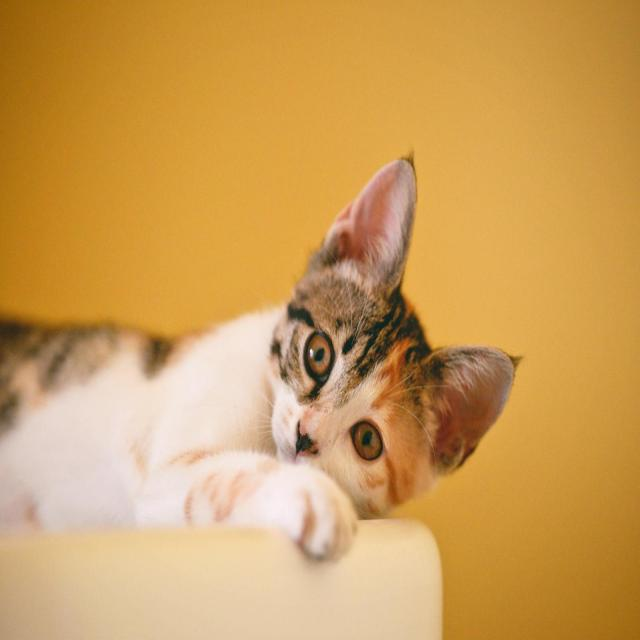Cat: (0, 149, 523, 563)
